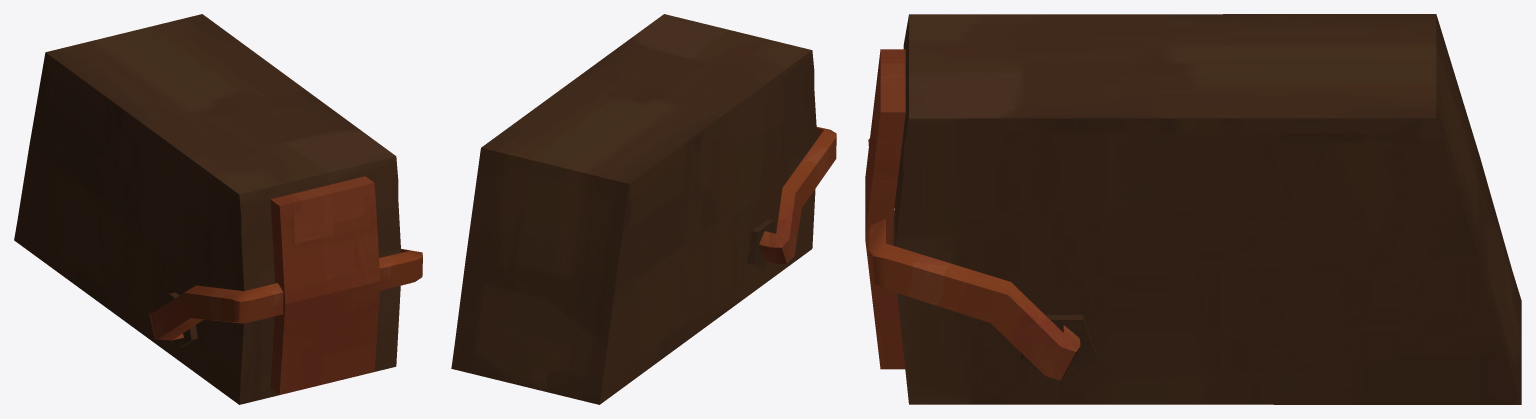
Rendered from inkHouseSmallest.fbx.
3 views of the same model, side by side, from view 1: azimuth 30°, elevation 25°; view 2: azimuth 150°, elevation 25°; view 3: azimuth 270°, elevation 25° (orthographic). The views are drawn at different scales.
Visible parts, largest first — view 1: inkHouse01_MainPart, inkHouse01_Lid; view 2: inkHouse01_MainPart, inkHouse01_Lid; view 3: inkHouse01_MainPart, inkHouse01_Lid.
Part boxes in pixels (left/top/right/bottom): inkHouse01_MainPart: left=14, top=14, right=401, bottom=404; inkHouse01_Lid: left=149, top=176, right=422, bottom=394; inkHouse01_MainPart: left=451, top=14, right=817, bottom=404; inkHouse01_Lid: left=747, top=127, right=836, bottom=271; inkHouse01_MainPart: left=894, top=14, right=1521, bottom=404; inkHouse01_Lid: left=865, top=49, right=1097, bottom=384.
Bounding box in the file's own units: 3.08 × 2.81 × 5.83.
